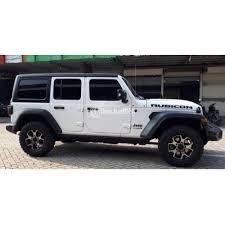mobil: (8, 67, 218, 167)
